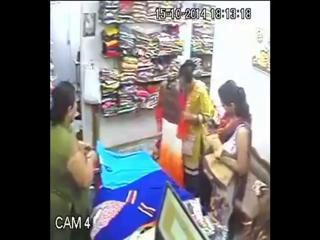Normal: (158, 59, 217, 214), (201, 81, 253, 240), (50, 81, 100, 239)
